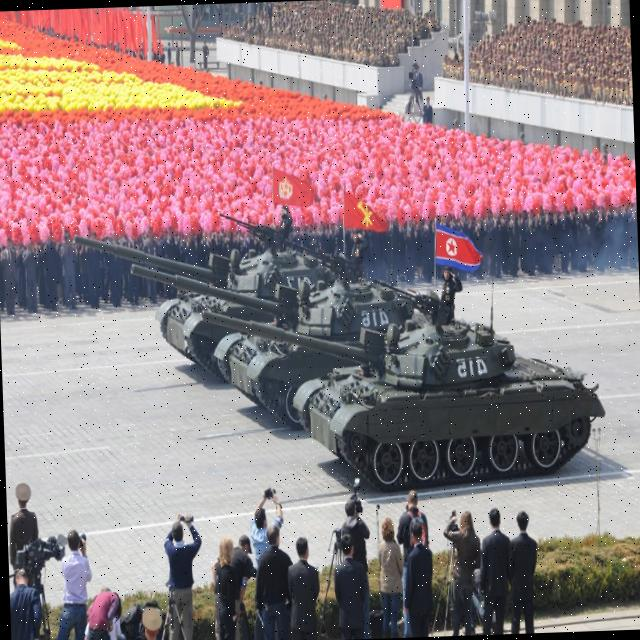north tank: (192, 244, 624, 506), (133, 243, 465, 430), (63, 230, 340, 403)
